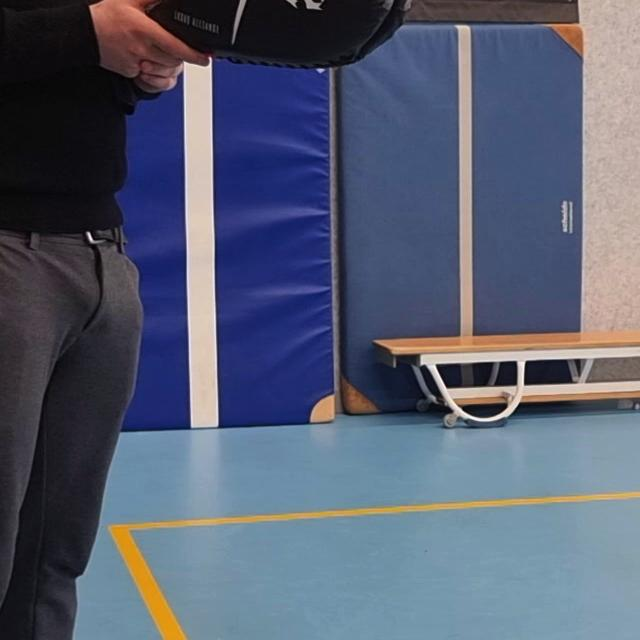paddle: (144, 0, 417, 66)
